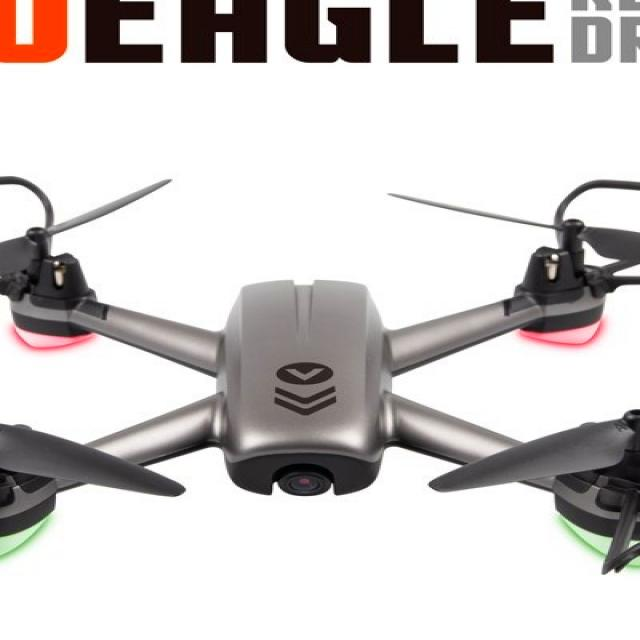drone: (0, 148, 640, 593)
